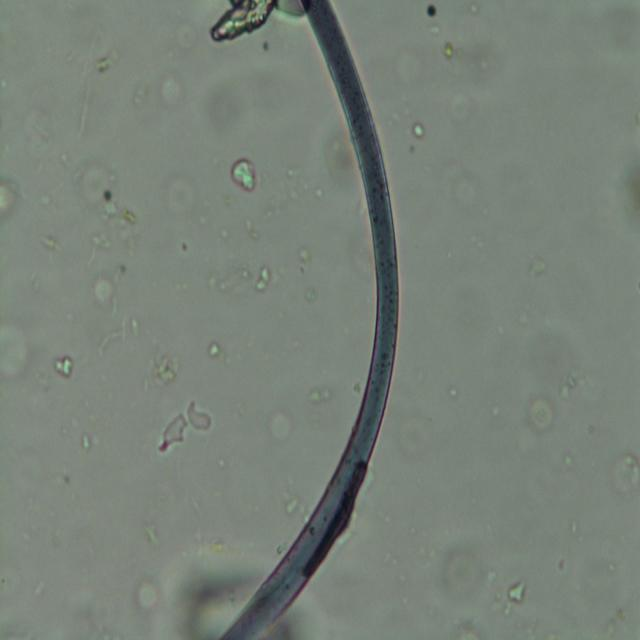Background material: (68, 151, 142, 316), (528, 310, 590, 414), (175, 552, 248, 636), (66, 555, 130, 636), (203, 56, 265, 138), (26, 96, 70, 183), (208, 2, 299, 42), (431, 29, 495, 79), (396, 396, 441, 466), (438, 534, 484, 599), (160, 398, 212, 452), (433, 152, 477, 208), (0, 317, 38, 379), (204, 252, 251, 297), (333, 121, 361, 185), (609, 443, 640, 499), (619, 148, 640, 227), (162, 170, 195, 220), (498, 572, 532, 619), (297, 230, 319, 302), (132, 572, 165, 620), (528, 391, 558, 438), (398, 34, 424, 84), (295, 163, 325, 205), (152, 347, 182, 389), (95, 321, 129, 358), (132, 514, 165, 552), (131, 74, 155, 121), (228, 156, 258, 192), (519, 238, 547, 274), (444, 88, 476, 119), (157, 71, 184, 106), (0, 179, 22, 221), (254, 261, 279, 293), (72, 431, 101, 458), (36, 228, 62, 258), (34, 180, 58, 211), (236, 214, 260, 244), (270, 410, 292, 442), (92, 50, 118, 77), (279, 490, 301, 517), (306, 383, 332, 405), (55, 355, 75, 380), (565, 513, 580, 539), (410, 124, 428, 143), (600, 620, 620, 637), (444, 383, 464, 400), (555, 551, 569, 574), (426, 2, 439, 23), (561, 453, 575, 470)
Microfibre: (215, 1, 399, 638)
